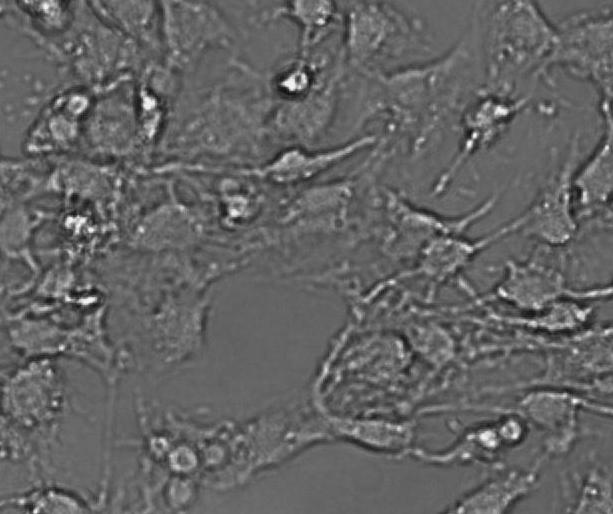Dead: (55, 197, 119, 245), (132, 76, 169, 144), (216, 181, 266, 230), (47, 82, 102, 123), (61, 279, 116, 316), (271, 61, 317, 99), (159, 473, 201, 509), (197, 437, 234, 473), (163, 442, 201, 475), (494, 413, 527, 447), (145, 429, 174, 464)
